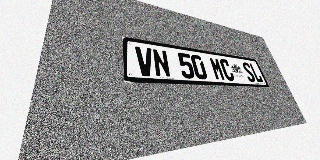0: (190, 54, 208, 80)
5: (177, 52, 196, 79)
C: (219, 58, 236, 81)
L: (249, 63, 264, 83)
M: (209, 57, 226, 81)
N: (152, 48, 171, 78)
S: (241, 62, 257, 82)
V: (135, 46, 155, 77)
